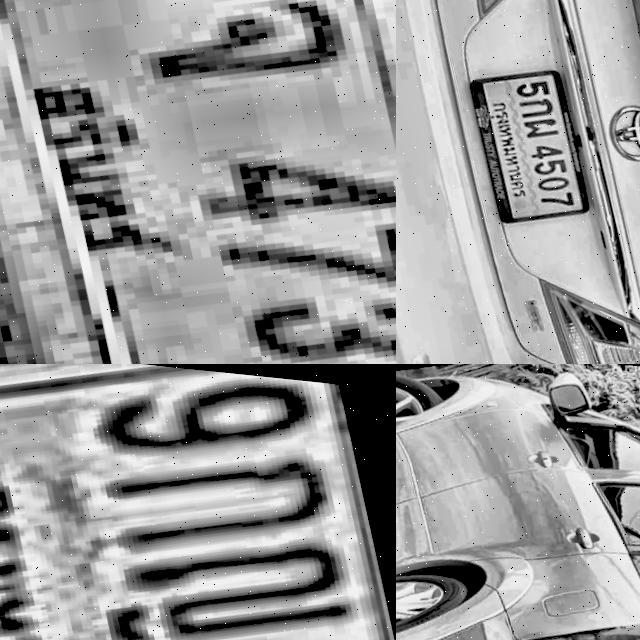license-plate: (0, 0, 396, 364), (0, 364, 396, 640), (465, 50, 597, 230)
